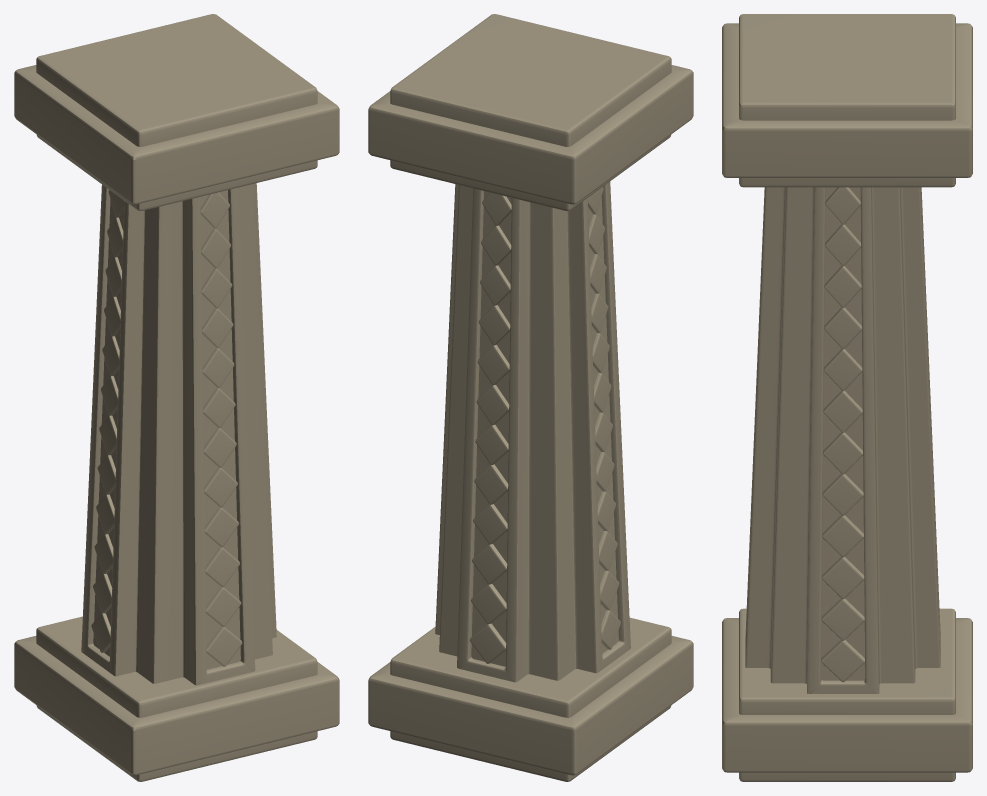
Rendered from TemplePillarC_001.fbx.
3 renders of one model, left to right at view 1: azimuth 30°, elevation 25°; view 2: azimuth 150°, elevation 25°; view 3: azimuth 270°, elevation 25°, orthographic. The views are drawn at different scales.
Parts seen in each view (by area): view 1: TemplePillarC_001; view 2: TemplePillarC_001; view 3: TemplePillarC_001.
Part boxes in pixels (bbox=[...]): TemplePillarC_001: bbox=[14, 14, 339, 781]; TemplePillarC_001: bbox=[368, 14, 693, 781]; TemplePillarC_001: bbox=[722, 14, 972, 781].
Size of the model in its own units: 1.16 by 3.46 by 1.16.
